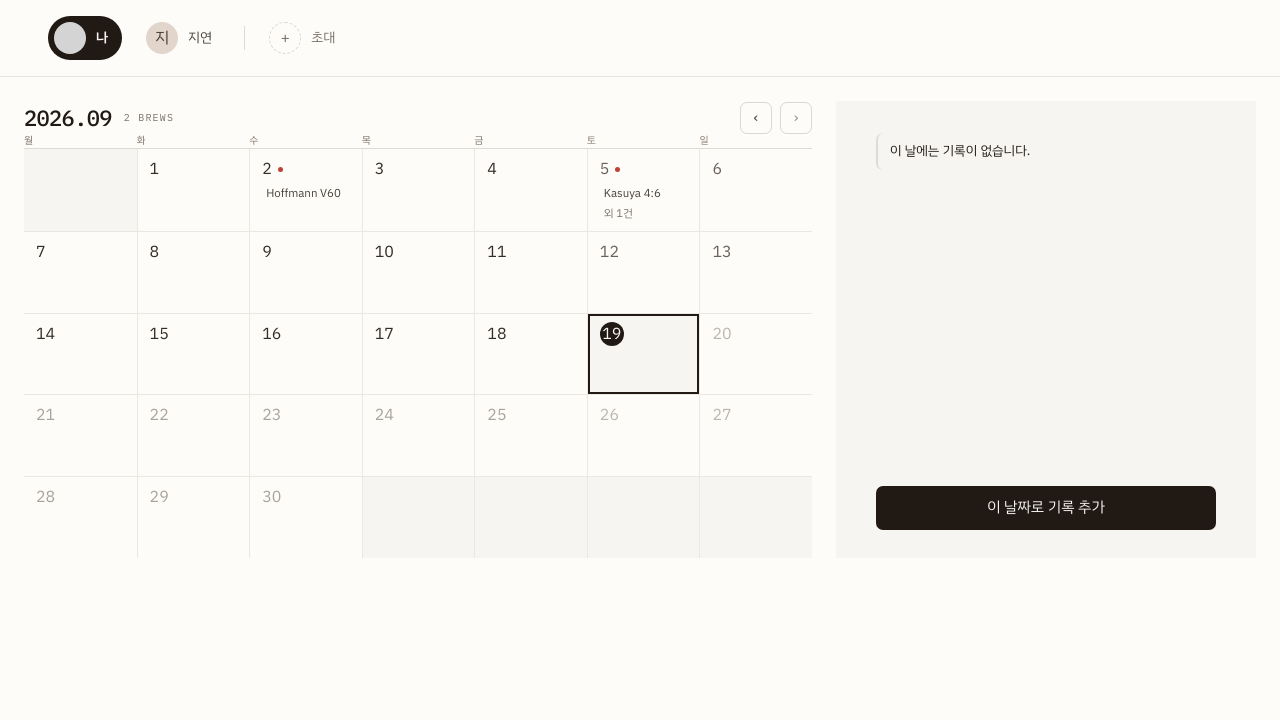
Test: HomePage — 웹 카드 캡션 › AC-HOMEFIT-23 · 캡션에 새 API를 부르지 않는다
Expected: the text "2026.09" is shown, [24,101,112,134]
Click the button with aria-label "9월 5일, 기록 2건".
click(643, 190)  # box [587,149,699,231]
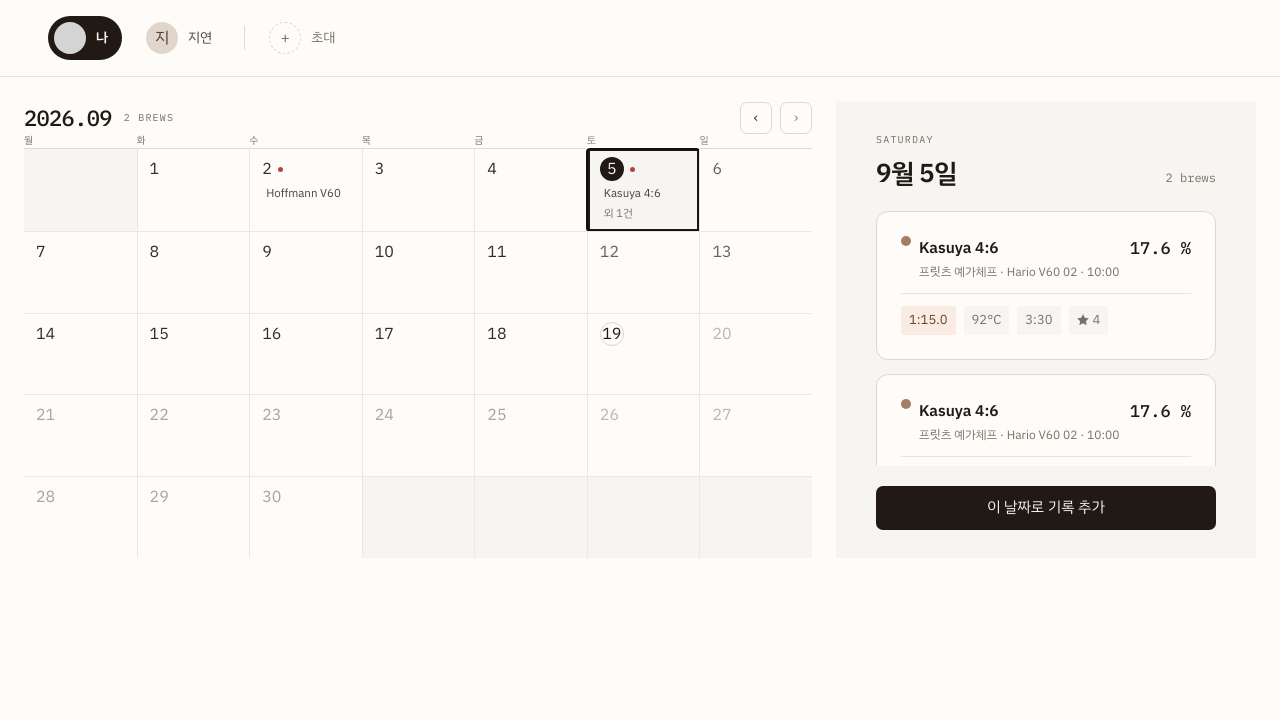
Now the text "프릿츠 예가체프 · Hario V60 02 · 10:00" is shown 2 times, box [919,263,1122,281]; [919,426,1122,444]
